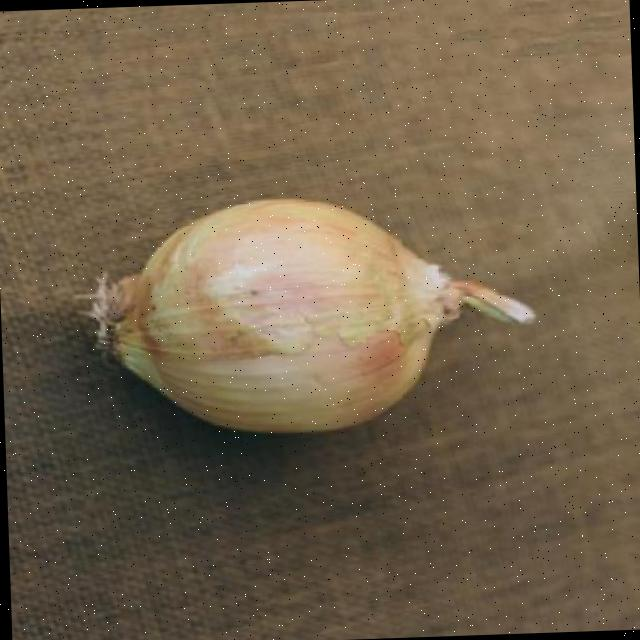Onion: (93, 199, 532, 433)
